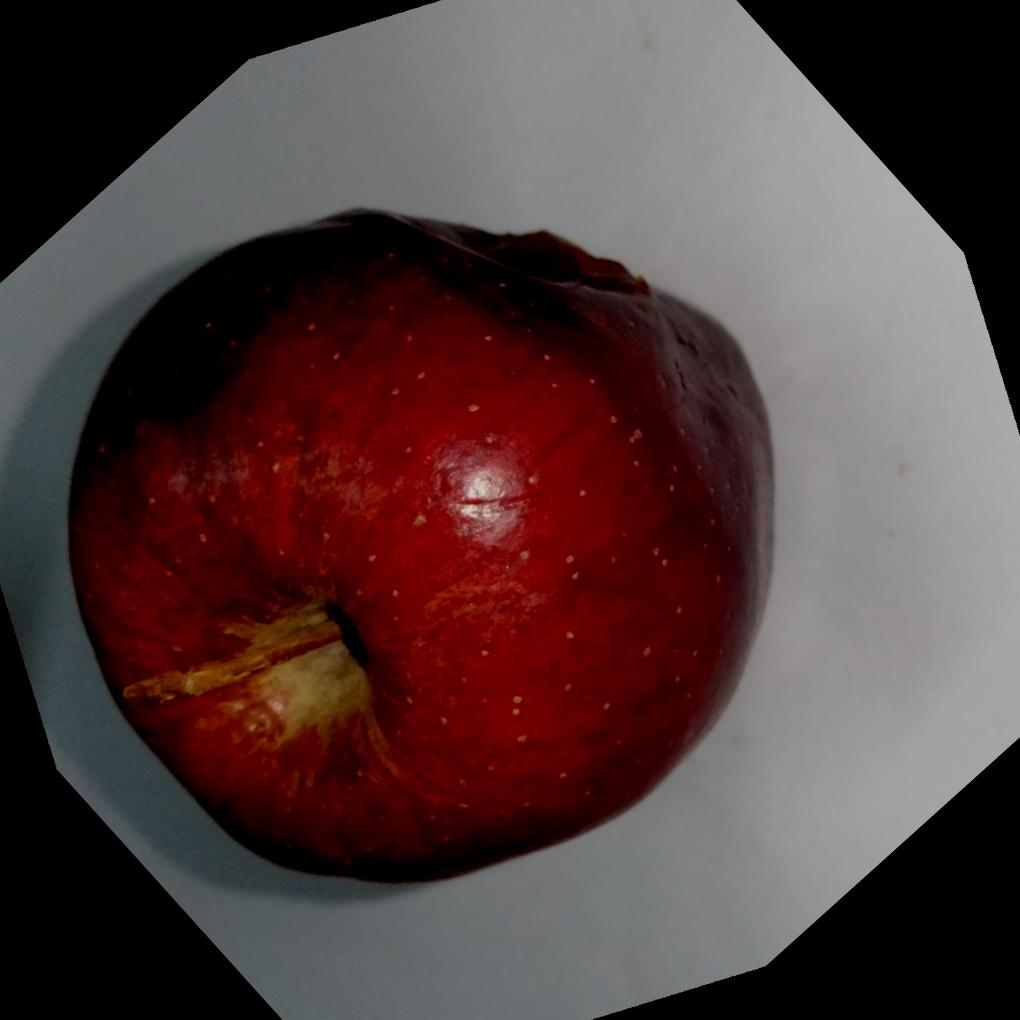FreshOrange: (66, 208, 778, 888)
